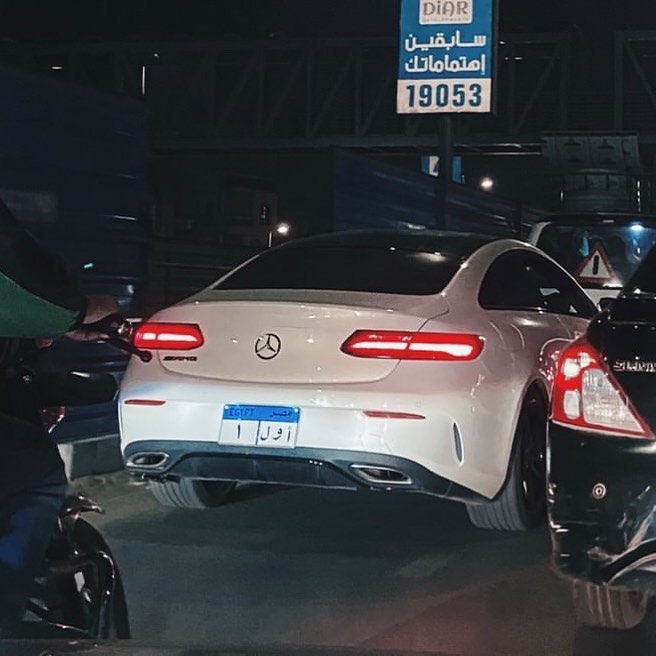carpl: (220, 402, 300, 444)
